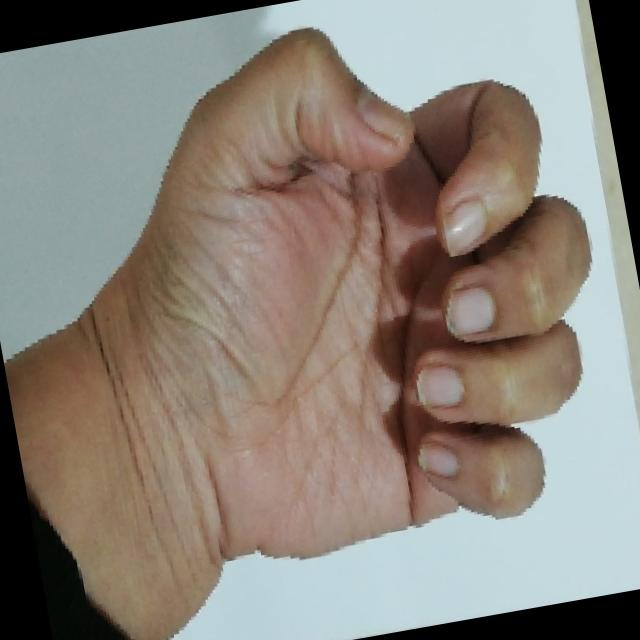Nail: (355, 83, 410, 140), (440, 199, 486, 256), (444, 285, 494, 337), (414, 363, 463, 408), (416, 441, 458, 476)
